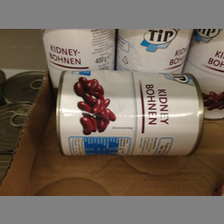beans: (55, 68, 207, 159), (42, 29, 117, 85), (121, 28, 193, 80)
